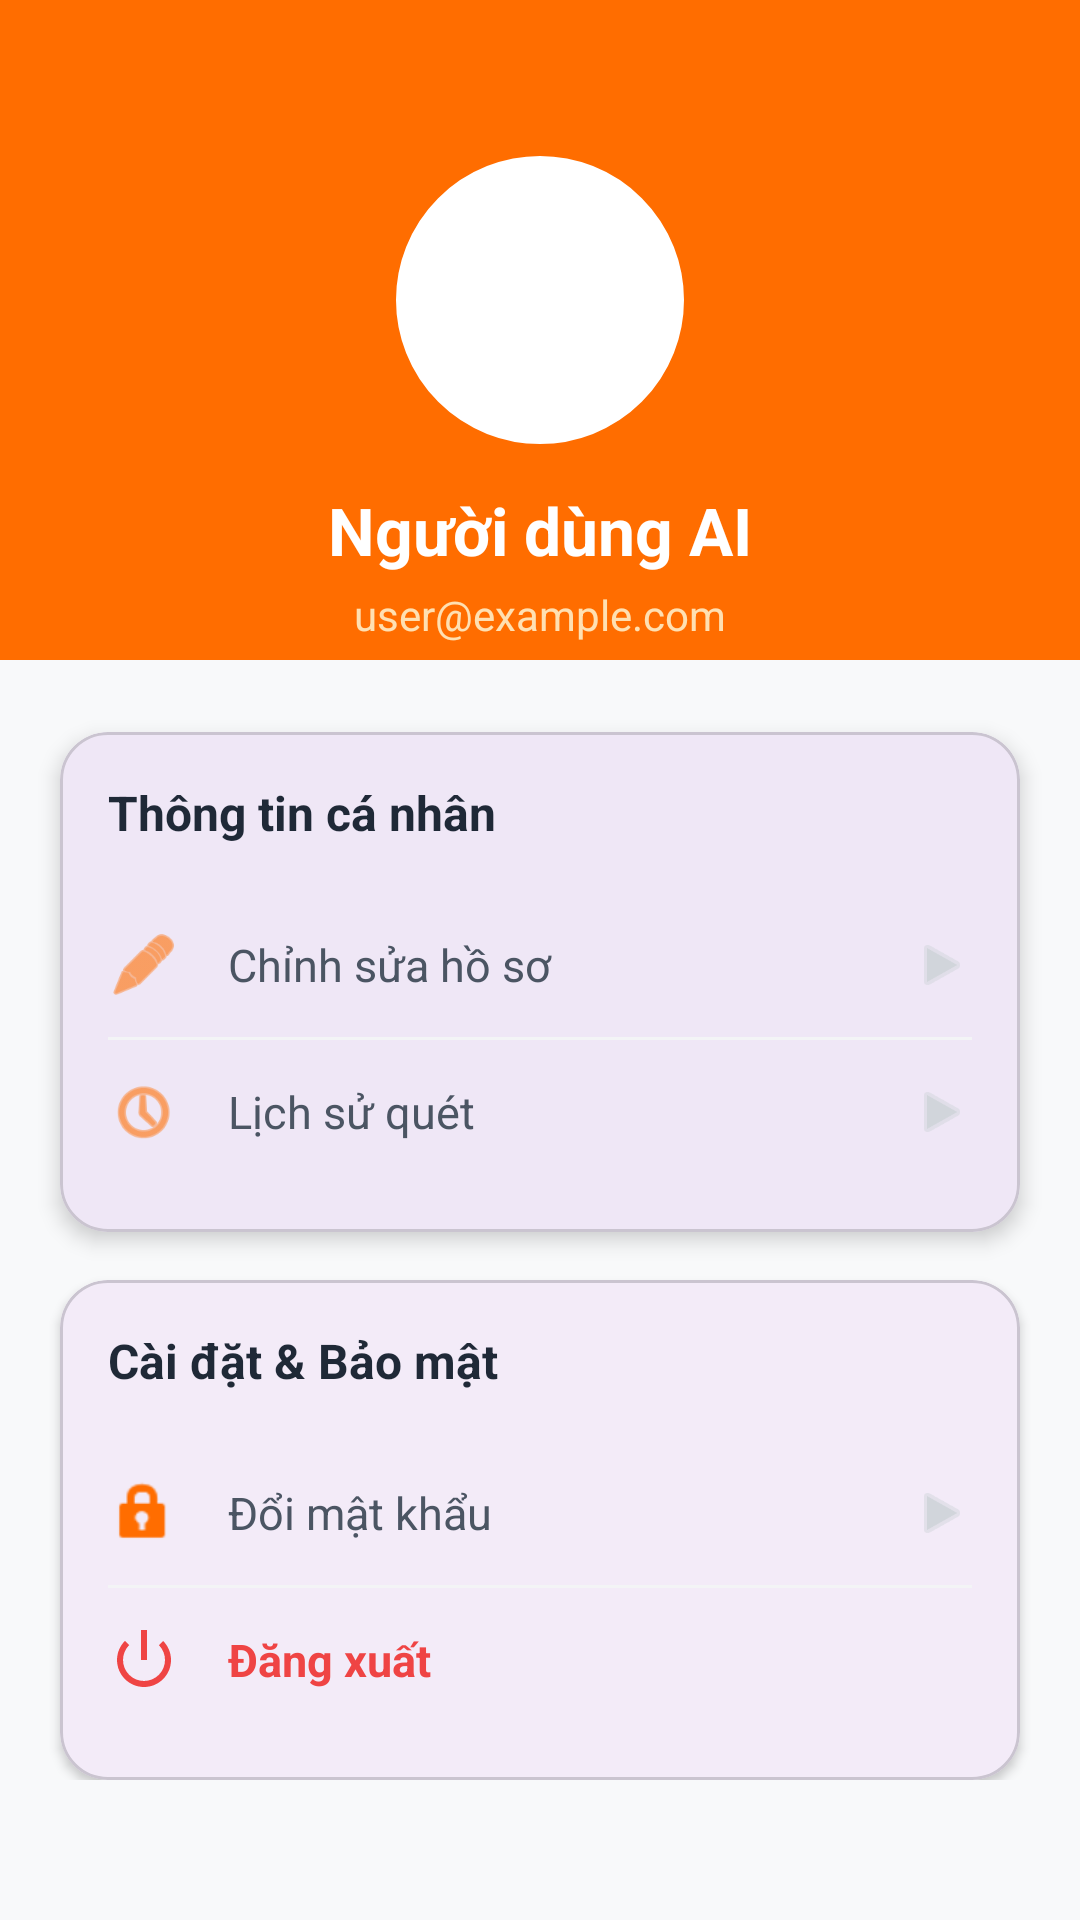

Screen size 1080w x 1920h. Icon name, then its center in pixels as (x,y):
edit: (143,964)
lock idle: (142,1510)
lock power off: (144,1658)
play: (941,965), (941,1112), (942,1513)
recent history: (143,1112)
